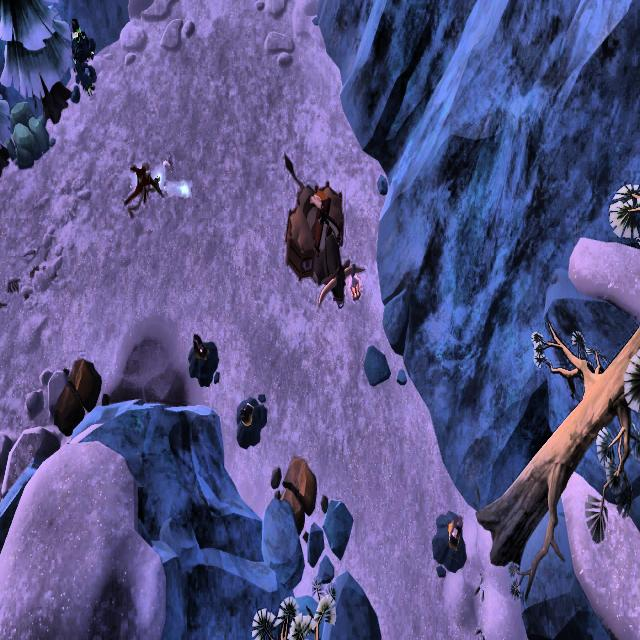enemy_factionUndead: (123, 160, 164, 219)
